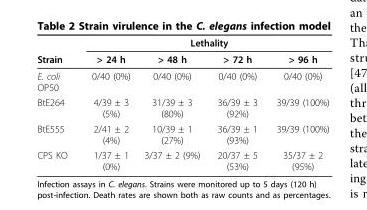table: (36, 36, 328, 171)
table column: (136, 36, 208, 171), (266, 36, 328, 171), (78, 36, 136, 171), (208, 36, 266, 171), (36, 36, 78, 171)
table column header: (36, 36, 328, 67)
table row: (36, 67, 328, 94), (36, 120, 328, 147), (36, 94, 328, 120), (36, 147, 328, 171), (36, 50, 328, 67), (36, 36, 328, 50)
table spanning cell: (78, 36, 328, 50), (36, 36, 78, 67)
